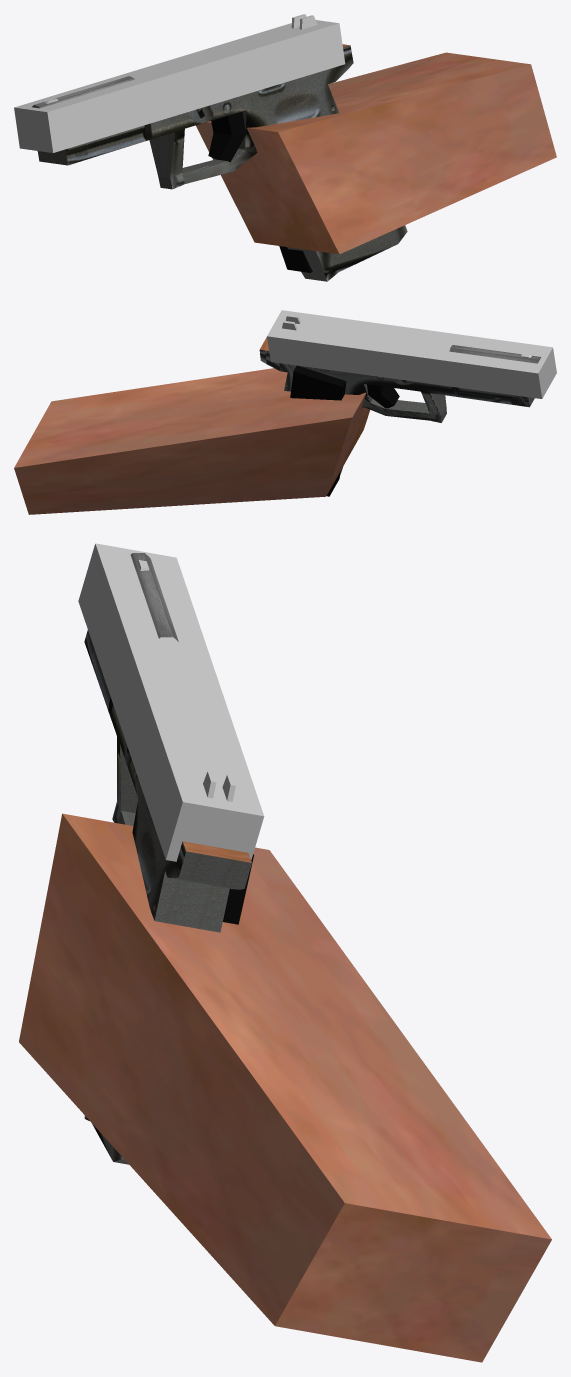
The model's file is pistol_000019.obj.
3 views of the same model, one above another, from view 1: azimuth 30°, elevation 25°; view 2: azimuth 150°, elevation 25°; view 3: azimuth 270°, elevation 25° (orthographic). The views are drawn at different scales.
Visible parts, largest first — view 1: Cube, Cube.001, Cube.003, Cube.002; view 2: Cube, Cube.001, Cube.002, Cube.003; view 3: Cube, Cube.001.
Boxes of the visible parts, x1,y1,x2,y2 form: Cube: [32, 44, 556, 281]; Cube.001: [14, 14, 345, 152]; Cube.003: [208, 111, 246, 162]; Cube.002: [279, 246, 312, 272]; Cube: [14, 337, 541, 514]; Cube.001: [267, 310, 556, 398]; Cube.002: [290, 365, 346, 496]; Cube.003: [367, 384, 399, 408]; Cube: [19, 553, 551, 1362]; Cube.001: [78, 543, 264, 861].
Size of the model in its own units: 1.74 by 0.7461 by 0.8969.
